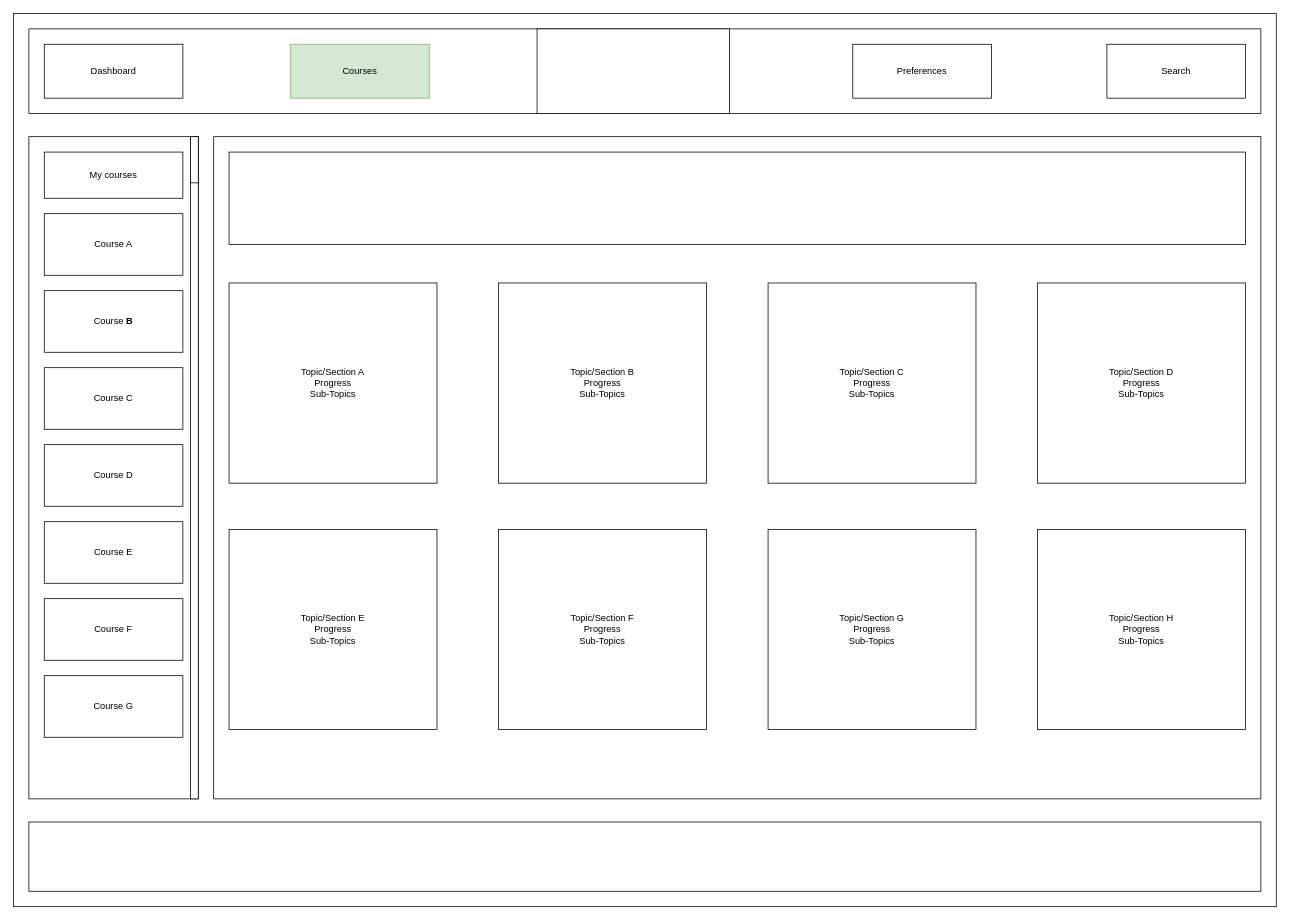
Image size: 1290x920. Some labels were removed from this diagram. The shapes that lost their labels are listed below. From the top down, each one's centre as x and y in pixels, then its label:
At [633,71]: "Logo".
At [736,197]: "Course overview".
At [644,856]: "Footer".
